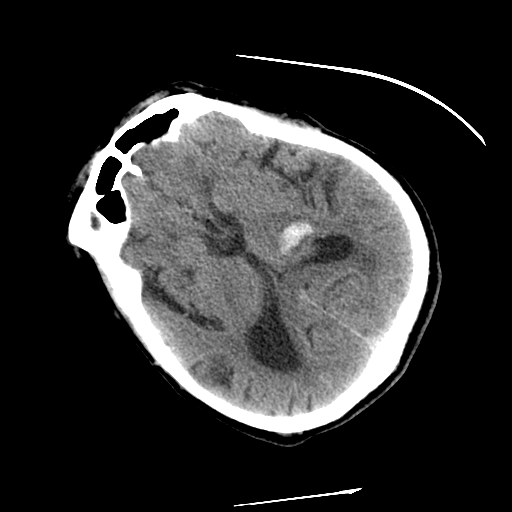a: (262, 203, 331, 266)
